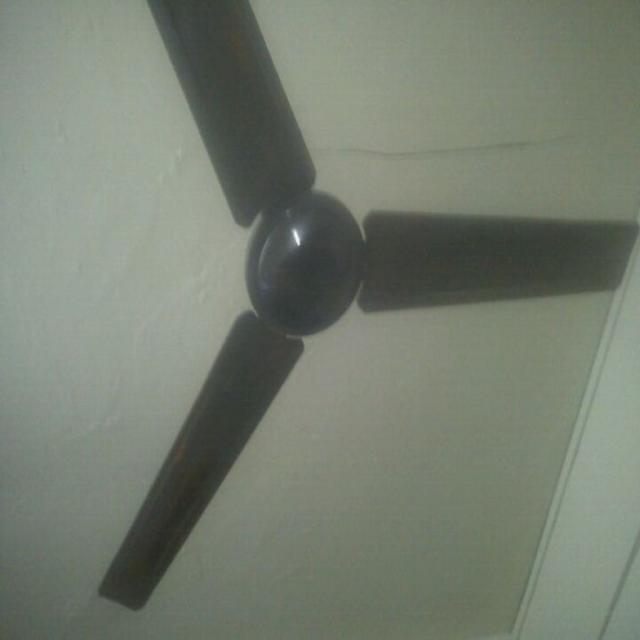Bulb: (97, 0, 640, 612)
